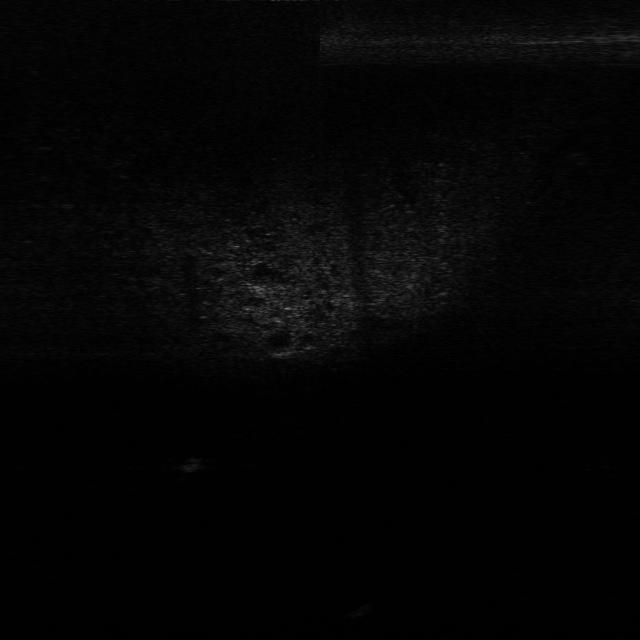cylinder: (182, 453, 208, 476)
